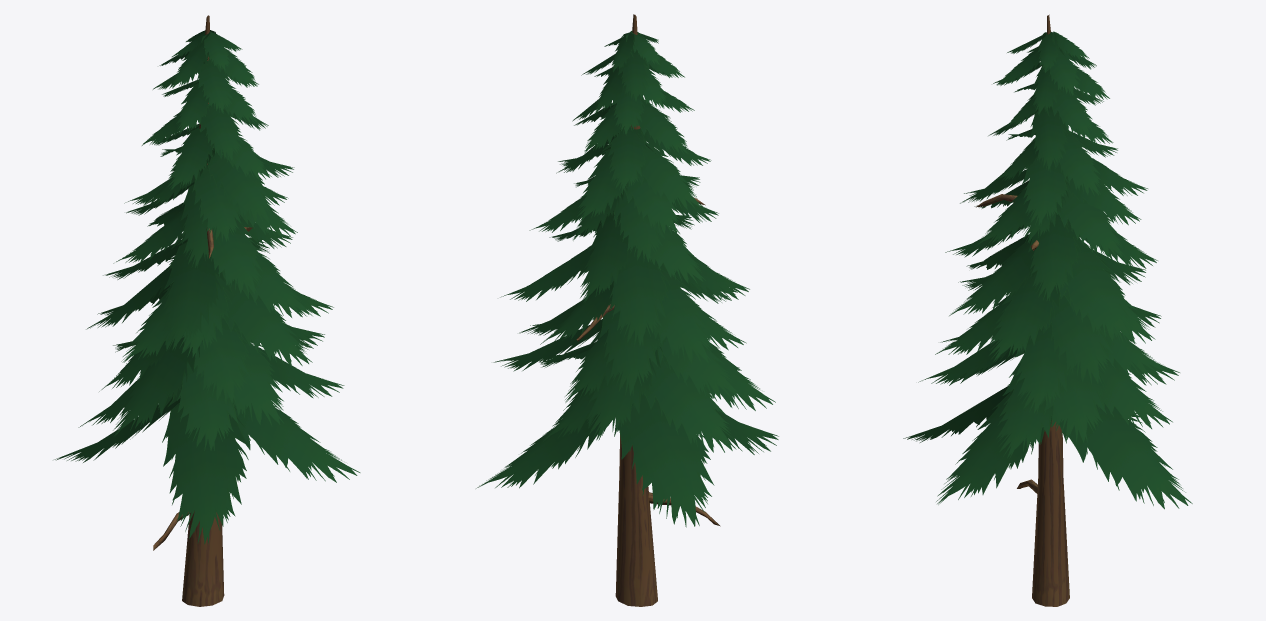
The model's file is SM_Pine_Tree_1.glb.
3 views of the same model, side by side, from view 1: azimuth 30°, elevation 25°; view 2: azimuth 150°, elevation 25°; view 3: azimuth 270°, elevation 25° (orthographic).
Visible parts, largest first — view 1: SM_Pine_Tree_1; view 2: SM_Pine_Tree_1; view 3: SM_Pine_Tree_1.
Boxes of the visible parts, left/top/right/bottom form: SM_Pine_Tree_1: left=54, top=15, right=360, bottom=606; SM_Pine_Tree_1: left=476, top=14, right=778, bottom=606; SM_Pine_Tree_1: left=903, top=14, right=1192, bottom=606.
Size of the model in its own units: 4.88 by 8.67 by 5.42.
Materials: 2 (2 with a texture image).
